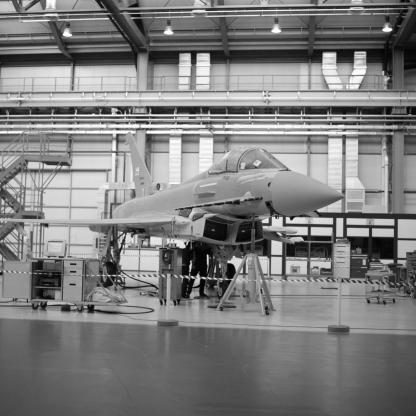EF2000: (2, 132, 347, 301)
